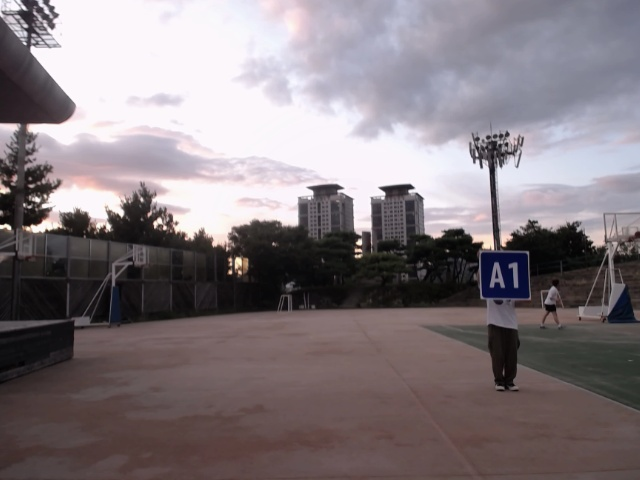delivery_a1: (479, 251, 530, 300)
